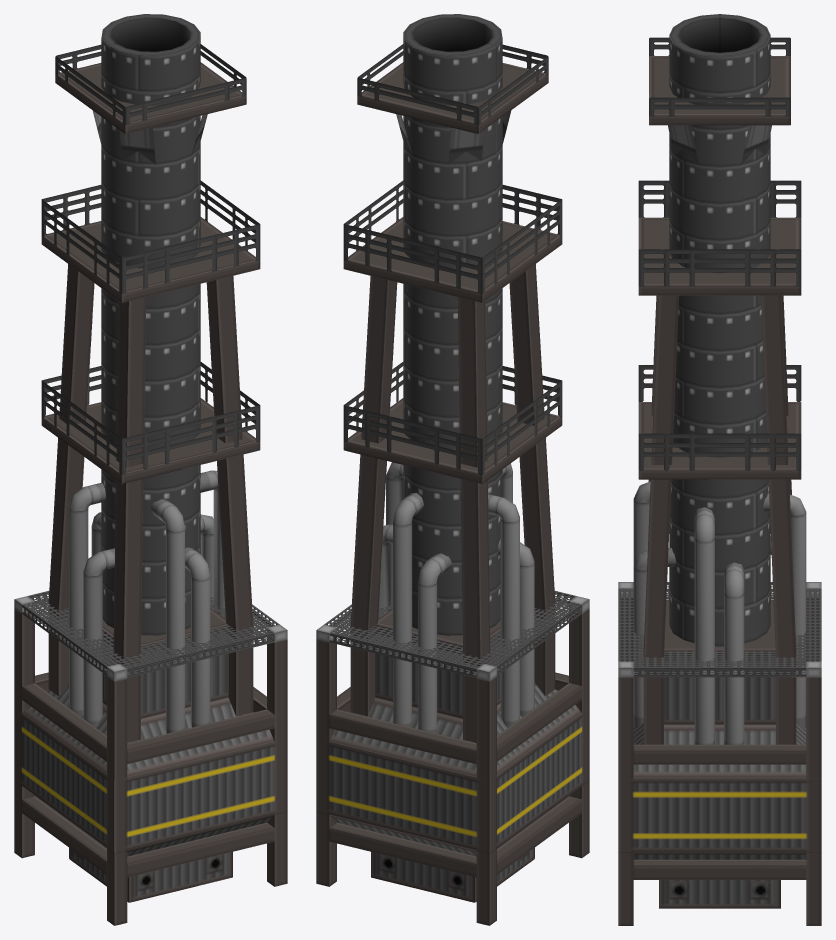
File: coker.obj
The picture shows the model from 3 angles, left to right: view 1: azimuth 30°, elevation 25°; view 2: azimuth 150°, elevation 25°; view 3: azimuth 270°, elevation 25°; orthographic projection.
Visible parts, largest first — view 1: Plane; view 2: Plane; view 3: Plane.
Boxes of the visible parts, x1,y1,x2,y2 form: Plane: [14, 14, 287, 925]; Plane: [316, 14, 589, 925]; Plane: [618, 14, 821, 925].
Size of the model in its own units: 5 by 23 by 5.
